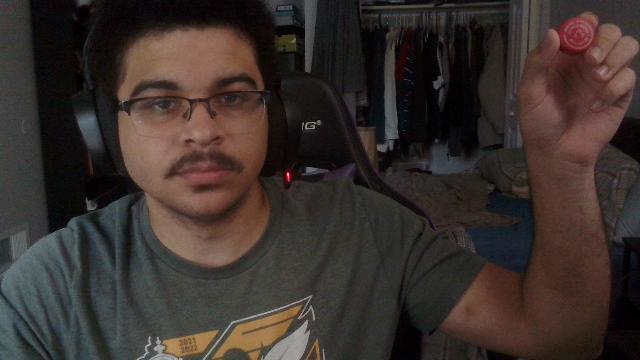cap: (558, 18, 596, 56)
